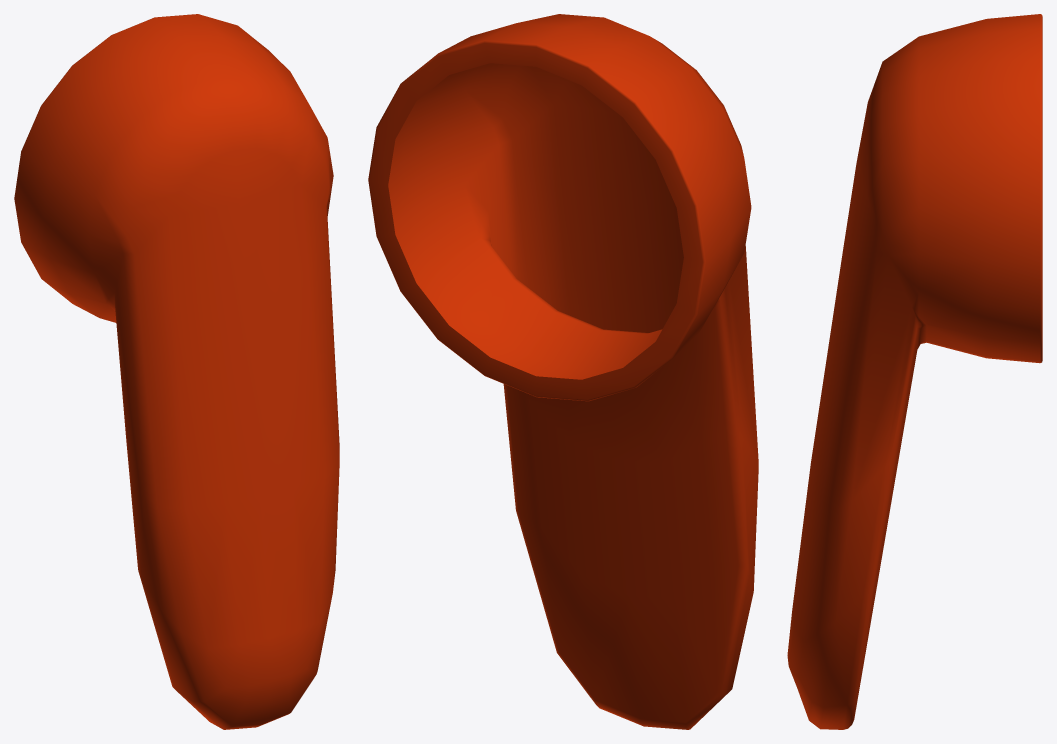
Rendered from faucet_handle.obj.
3 views of the same model, side by side, from view 1: azimuth 30°, elevation 25°; view 2: azimuth 150°, elevation 25°; view 3: azimuth 270°, elevation 25° (orthographic). The views are drawn at different scales.
Visible parts, largest first — view 1: faucet_handle_Circle.011; view 2: faucet_handle_Circle.011; view 3: faucet_handle_Circle.011.
Boxes of the visible parts, x1,y1,x2,y2 form: faucet_handle_Circle.011: (14,14,339,729); faucet_handle_Circle.011: (368,14,758,729); faucet_handle_Circle.011: (787,14,1042,729).
Size of the model in its own units: 0.0589 by 0.1272 by 0.0427.
